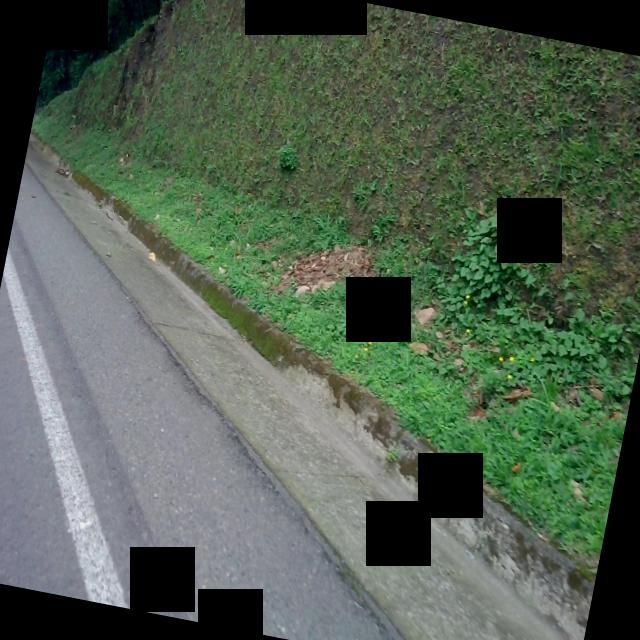DITCH: (0, 32, 640, 640), (0, 135, 640, 640)
